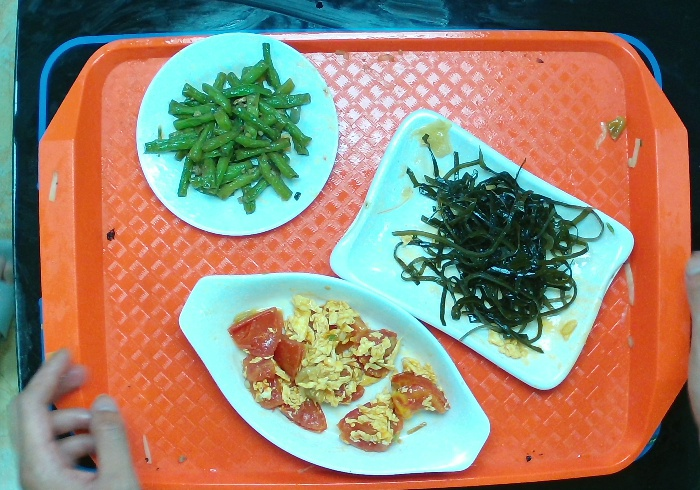RJxy-Si_Fang_Ao_Bian_Wan: (327, 107, 636, 392)
RJxy-Xiao_Yuan_Die: (134, 30, 339, 237)
RJxy-Yu_Pan: (177, 269, 492, 476)
